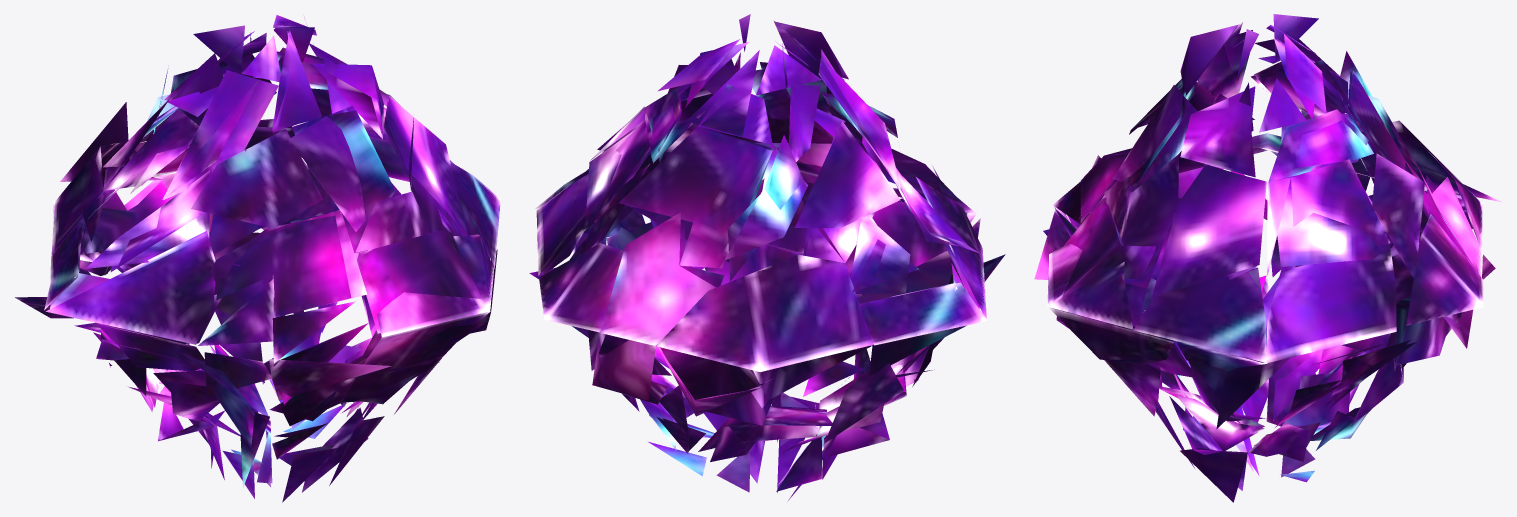
The model's file is xp_gem.glb.
The picture shows the model from 3 angles, left to right: view 1: azimuth 30°, elevation 25°; view 2: azimuth 150°, elevation 25°; view 3: azimuth 270°, elevation 25°; orthographic projection.
Parts seen in each view (by area): view 1: Mesh_0; view 2: Mesh_0; view 3: Mesh_0.
Part boxes in pixels (<box>): Mesh_0: <box>15,15,500,502</box>; Mesh_0: <box>529,14,1005,500</box>; Mesh_0: <box>1034,14,1501,502</box>.
Size of the model in its own units: 0.8538 by 0.8558 by 0.7728.
1 material, 1 textured.
